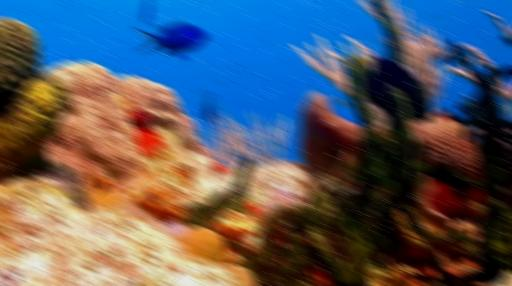Fish: (354, 54, 431, 121), (426, 182, 485, 222), (132, 24, 207, 54), (202, 92, 215, 122), (141, 0, 152, 25), (336, 96, 347, 106), (172, 51, 187, 58)
